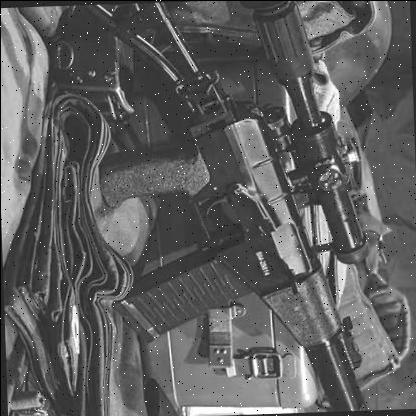rifle: (113, 0, 388, 411)
